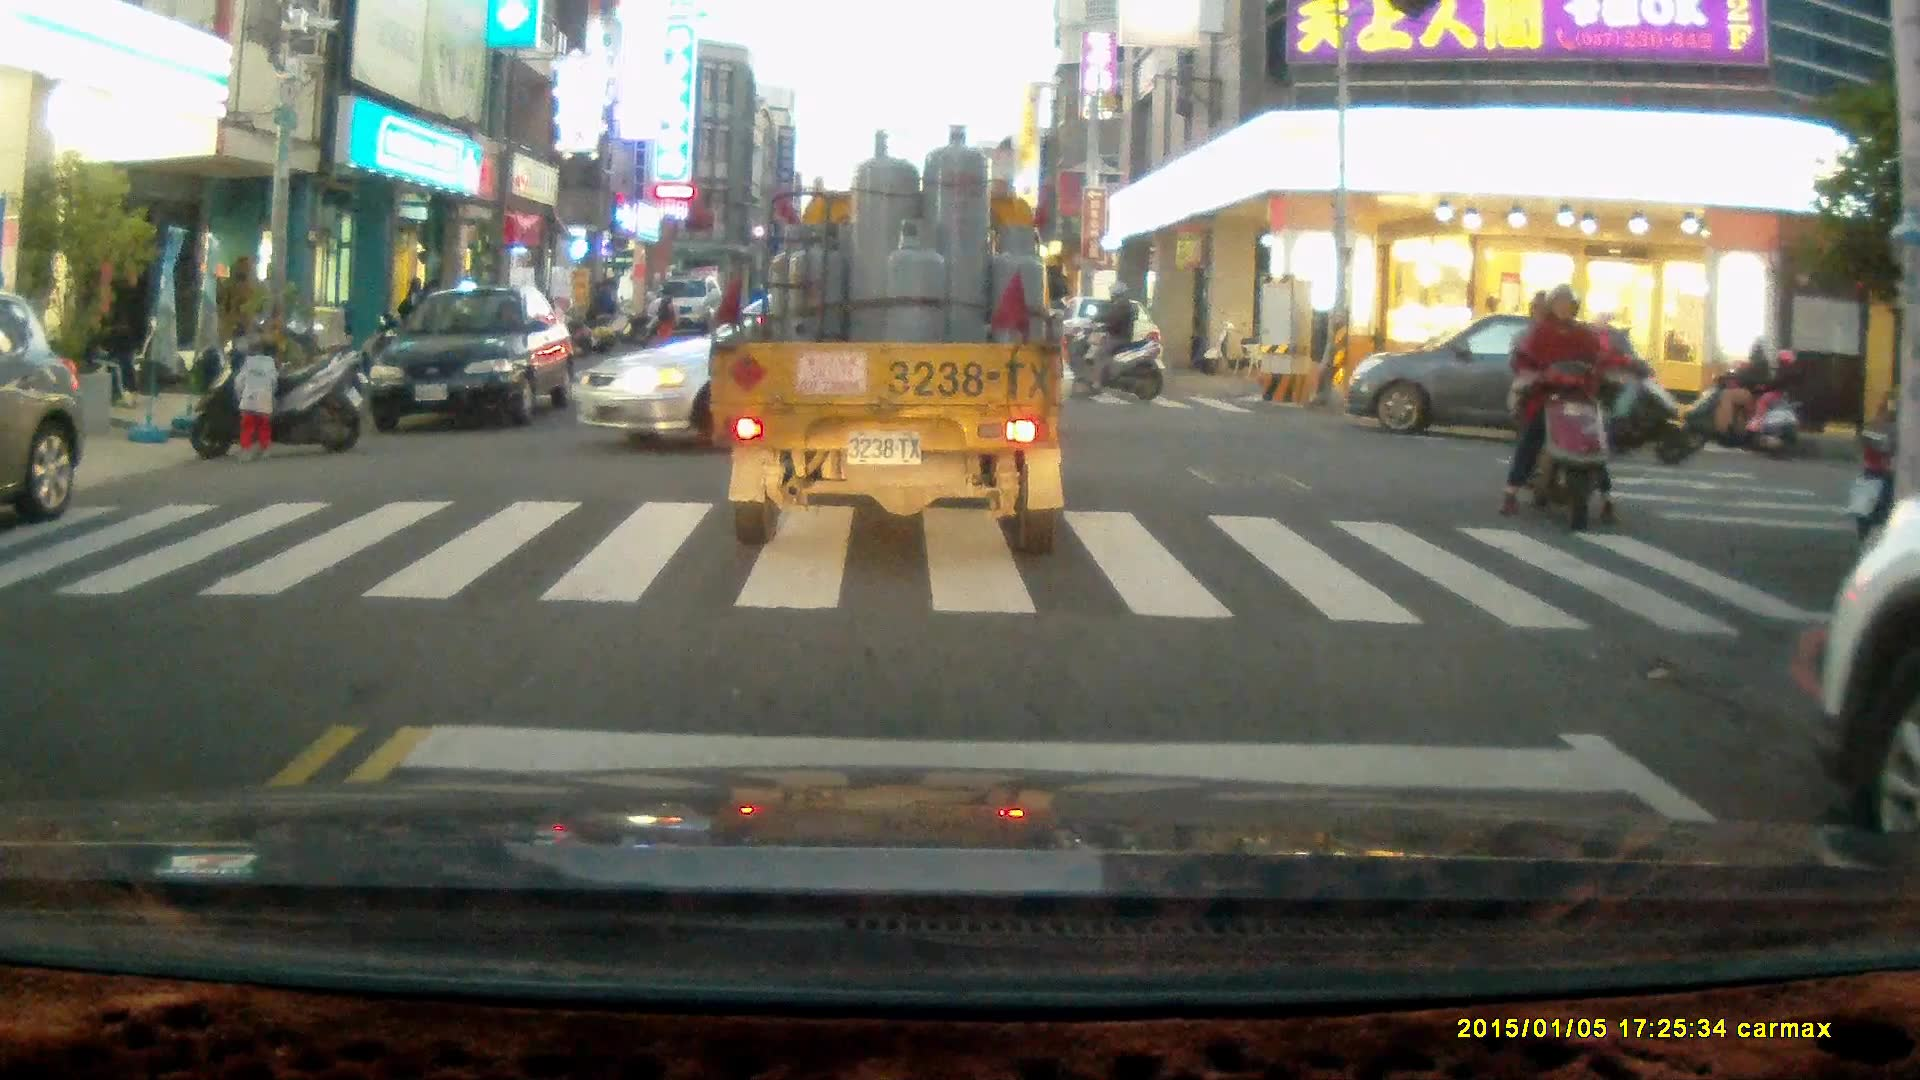pedestrian: (231, 339, 283, 463), (594, 277, 621, 339), (655, 285, 679, 343)
rider: (1495, 285, 1616, 531), (1547, 307, 1691, 461), (1683, 338, 1797, 458), (1070, 282, 1165, 403)
vehicle: (709, 123, 1067, 550), (570, 283, 1066, 447), (1338, 312, 1653, 467), (1821, 494, 1920, 895), (360, 287, 577, 434), (1066, 297, 1168, 383), (652, 278, 728, 334)
